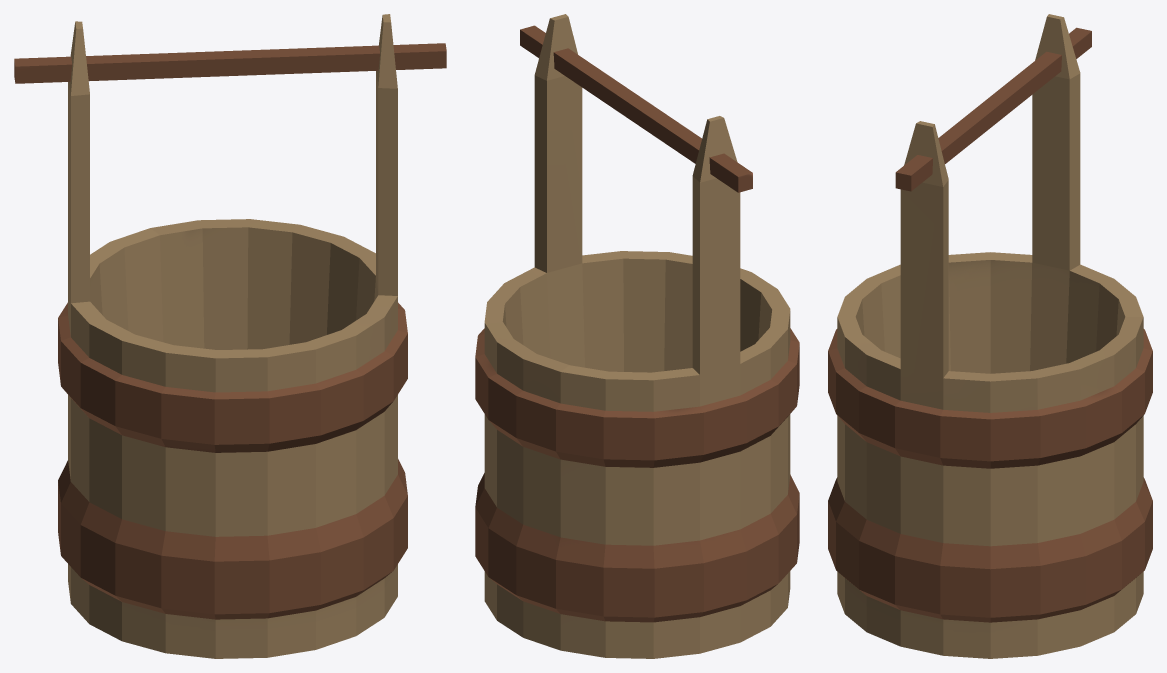
The model's file is Balde.fbx.
3 renders of one model, left to right at view 1: azimuth 30°, elevation 25°; view 2: azimuth 150°, elevation 25°; view 3: azimuth 270°, elevation 25°, orthographic. The views are drawn at different scales.
Parts seen in each view (by area): view 1: Cylinder; view 2: Cylinder; view 3: Cylinder.
Boxes of the visible parts, x1=… form: Cylinder: x1=14, y1=14, x2=446, y2=658; Cylinder: x1=475, y1=14, x2=799, y2=658; Cylinder: x1=828, y1=14, x2=1152, y2=658.
Size of the model in its own units: 237 by 378 by 212.
1 material, 1 textured.
